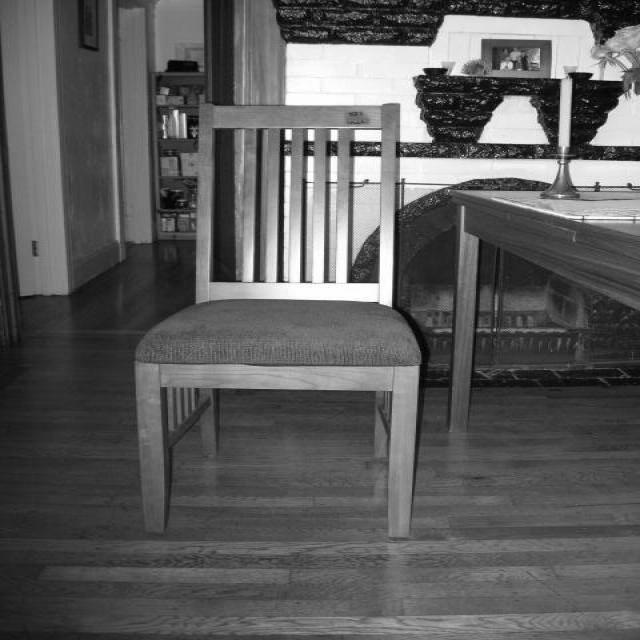chair: (135, 98, 426, 542)
